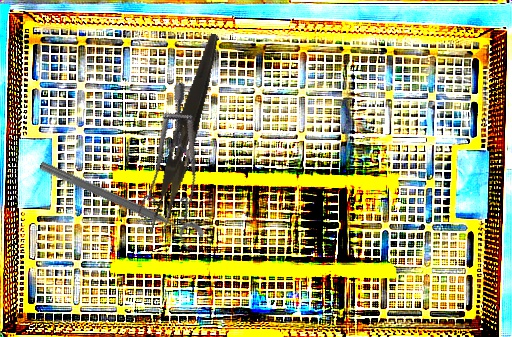Dressing Forceps: (149, 30, 222, 239)
Fixation Ring: (32, 156, 207, 255)
Speculum: (95, 80, 233, 244)
